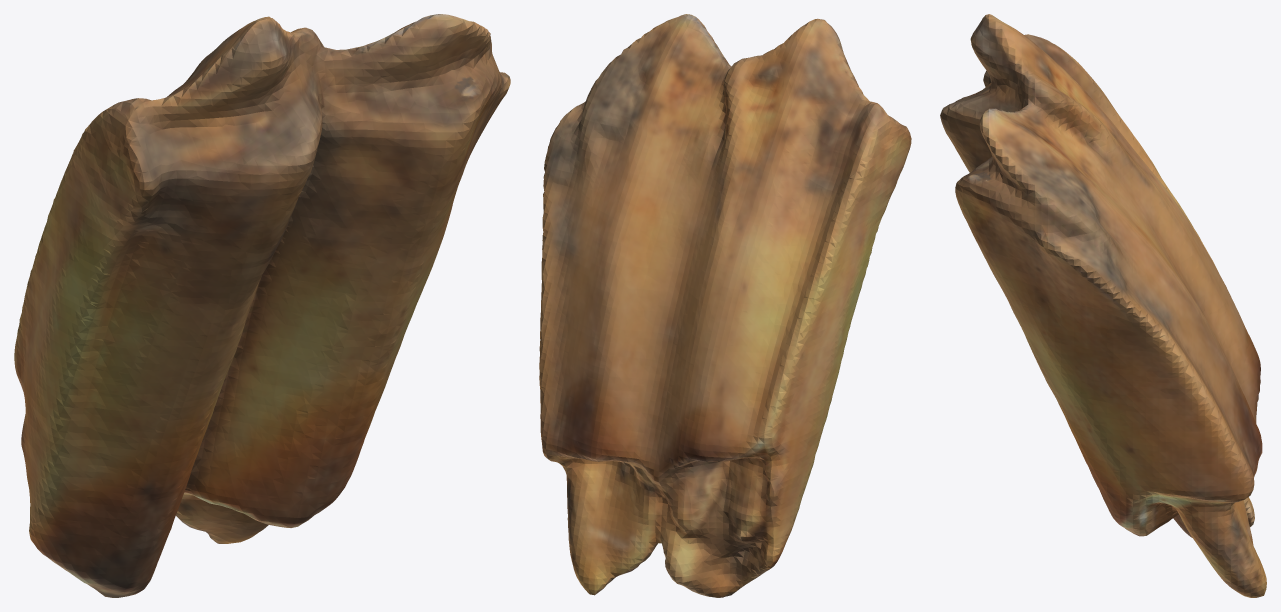
The model's file is MB Ovis 27 M1.obj.
3 views of the same model, side by side, from view 1: azimuth 30°, elevation 25°; view 2: azimuth 150°, elevation 25°; view 3: azimuth 270°, elevation 25° (orthographic). The views are drawn at different scales.
Bounding box in the file's own units: 17.47 × 26.81 × 14.99.
Materials: 1 (1 with a texture image).
